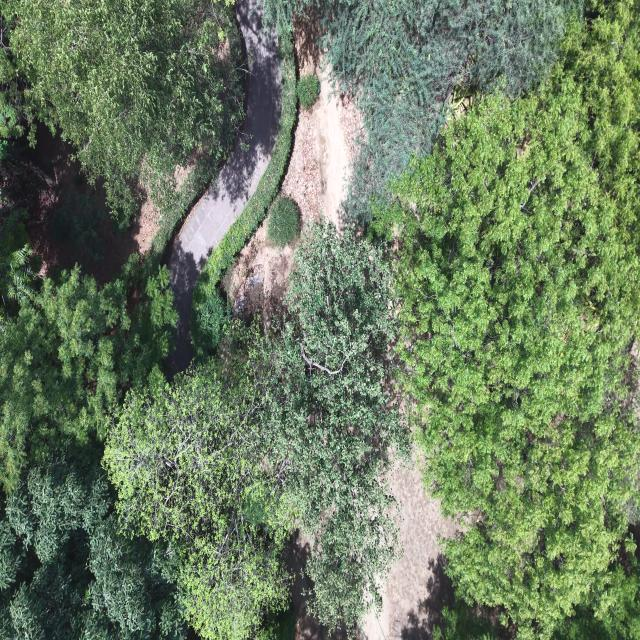DRY_AREA: (2, 124, 156, 281), (3, 127, 156, 280), (356, 466, 457, 639), (281, 16, 359, 233), (282, 10, 358, 228), (361, 467, 456, 639), (282, 16, 357, 225), (281, 73, 356, 236)
PATHWAYS: (167, 0, 280, 374)
VEGETATION_TREE: (0, 0, 639, 639), (374, 2, 639, 636), (375, 2, 639, 636), (104, 226, 408, 639), (0, 258, 186, 639), (103, 319, 287, 639), (103, 321, 287, 639), (265, 226, 409, 632), (319, 0, 583, 219), (321, 0, 581, 217), (267, 232, 407, 626), (2, 0, 241, 219), (0, 260, 175, 489), (0, 448, 186, 639), (192, 29, 296, 307), (0, 122, 144, 281), (550, 535, 639, 639), (552, 537, 639, 639), (146, 153, 225, 265), (0, 12, 32, 143), (50, 188, 107, 260), (0, 210, 33, 331), (430, 601, 498, 639), (191, 287, 228, 353), (266, 194, 299, 247), (260, 0, 307, 33), (254, 607, 295, 639), (267, 608, 295, 639), (296, 74, 319, 109)
